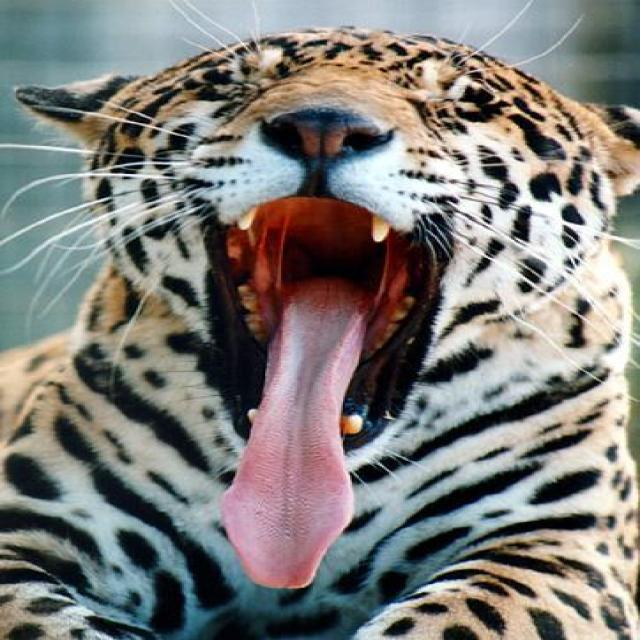Leopard: (0, 0, 635, 636)
